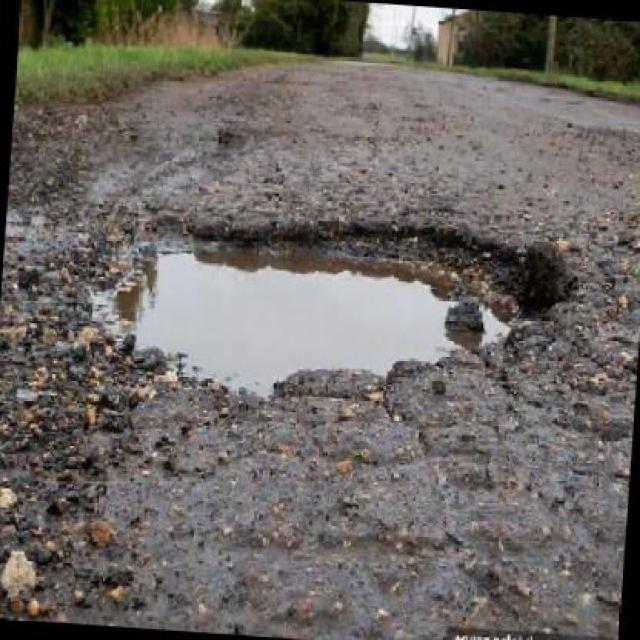pothole: (56, 191, 579, 427)
